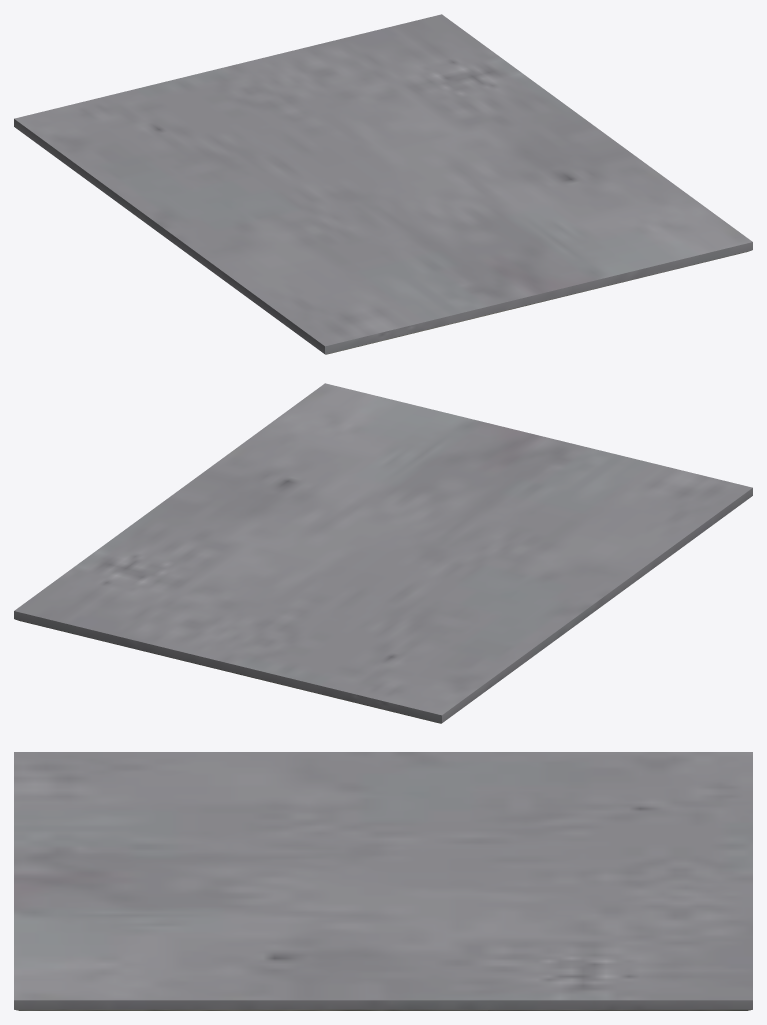
Rendered from vent_large_grill001.glb.
The picture shows the model from 3 angles, top to bottom: view 1: azimuth 30°, elevation 25°; view 2: azimuth 150°, elevation 25°; view 3: azimuth 270°, elevation 25°; orthographic projection. The views are drawn at different scales.
Visible parts, largest first — view 1: 0_borealis_vent001; view 2: 0_borealis_vent001; view 3: 0_borealis_vent001.
Boxes of the visible parts, x1,y1,x2,y2 form: 0_borealis_vent001: [14, 14, 752, 354]; 0_borealis_vent001: [14, 383, 752, 723]; 0_borealis_vent001: [14, 752, 752, 1010].
Bounding box in the file's own units: 0.6858 × 0.0165 × 0.8636.
Materials: 1 (1 with a texture image).
